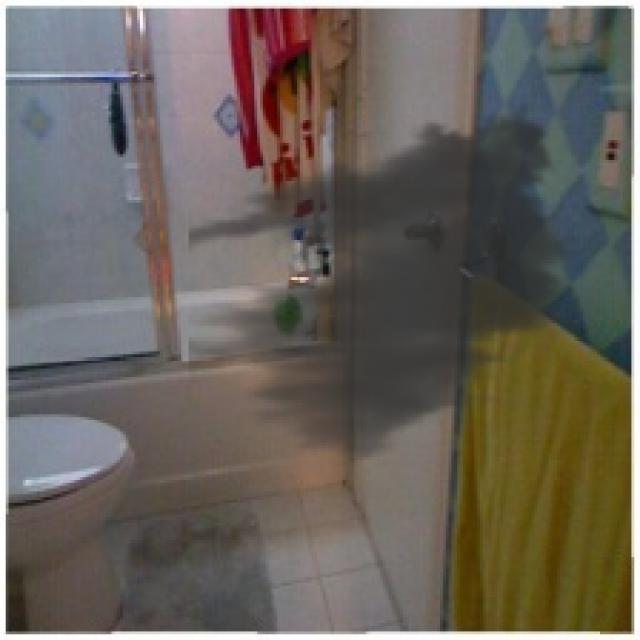Smoke: (188, 94, 588, 472)
